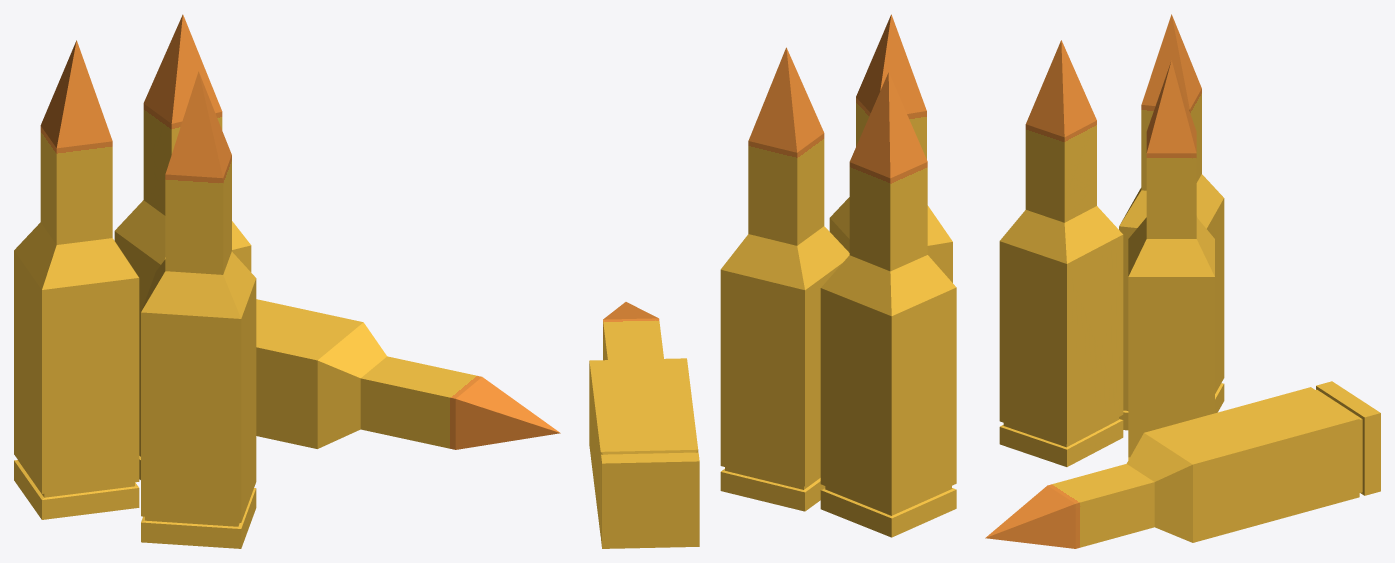
Rendered from wip-bullet.fbx.
3 views of the same model, side by side, from view 1: azimuth 30°, elevation 25°; view 2: azimuth 150°, elevation 25°; view 3: azimuth 270°, elevation 25° (orthographic). The views are drawn at different scales.
Visible parts, largest first — view 1: Bullet Pile; view 2: Bullet Pile; view 3: Bullet Pile.
Boxes of the visible parts, x1=… form: Bullet Pile: x1=14, y1=14, x2=560, y2=548; Bullet Pile: x1=589, y1=14, x2=956, y2=548; Bullet Pile: x1=985, y1=14, x2=1380, y2=548.
Size of the model in its own units: 78.5 by 78.99 by 70.62.
Materials: 1 (1 with a texture image).
